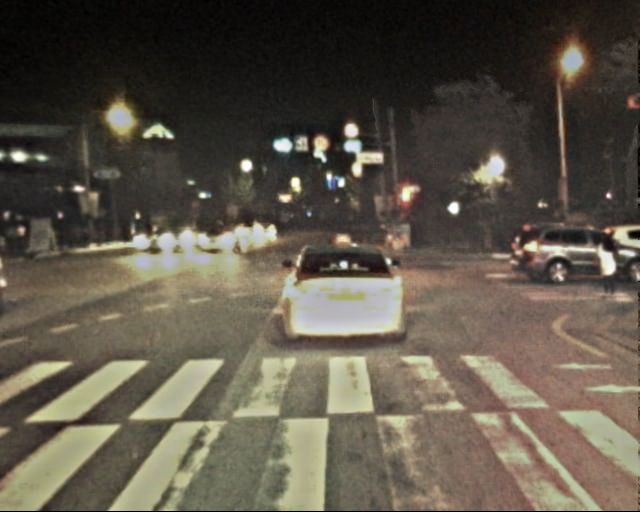person: (589, 228, 620, 304)
